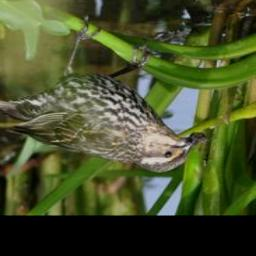Sparrow: (0, 19, 203, 173)
